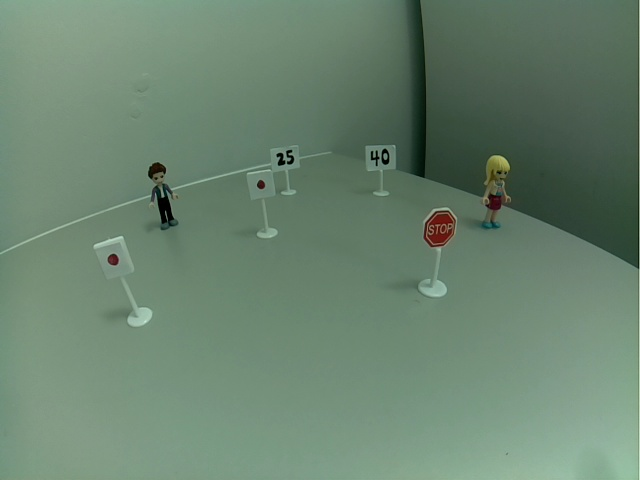people: (146, 162, 183, 232), (480, 152, 512, 232)
red light: (94, 234, 136, 282), (247, 169, 277, 201)
speed 25: (270, 145, 302, 171)
speed 40: (364, 143, 398, 172)
stop: (422, 205, 458, 250)
